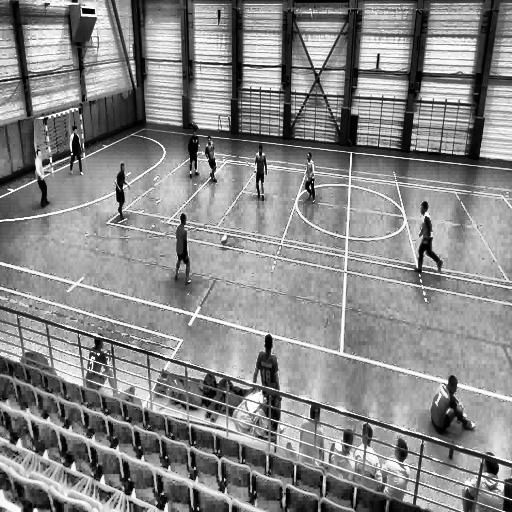ball: (221, 233, 228, 248)
player: (414, 199, 443, 274), (174, 211, 192, 286), (35, 148, 52, 208), (114, 163, 130, 221), (253, 143, 267, 200), (69, 126, 84, 176), (204, 136, 218, 182), (304, 150, 316, 202), (188, 129, 199, 178)
